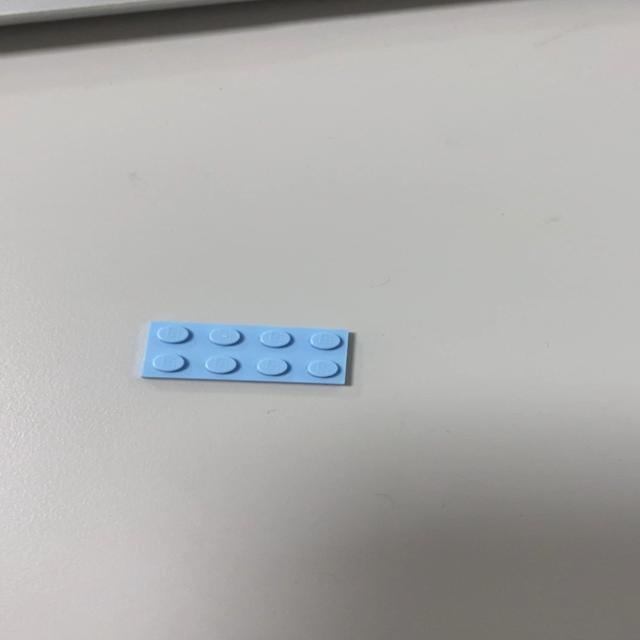C4x2x0: (138, 320, 348, 386)
